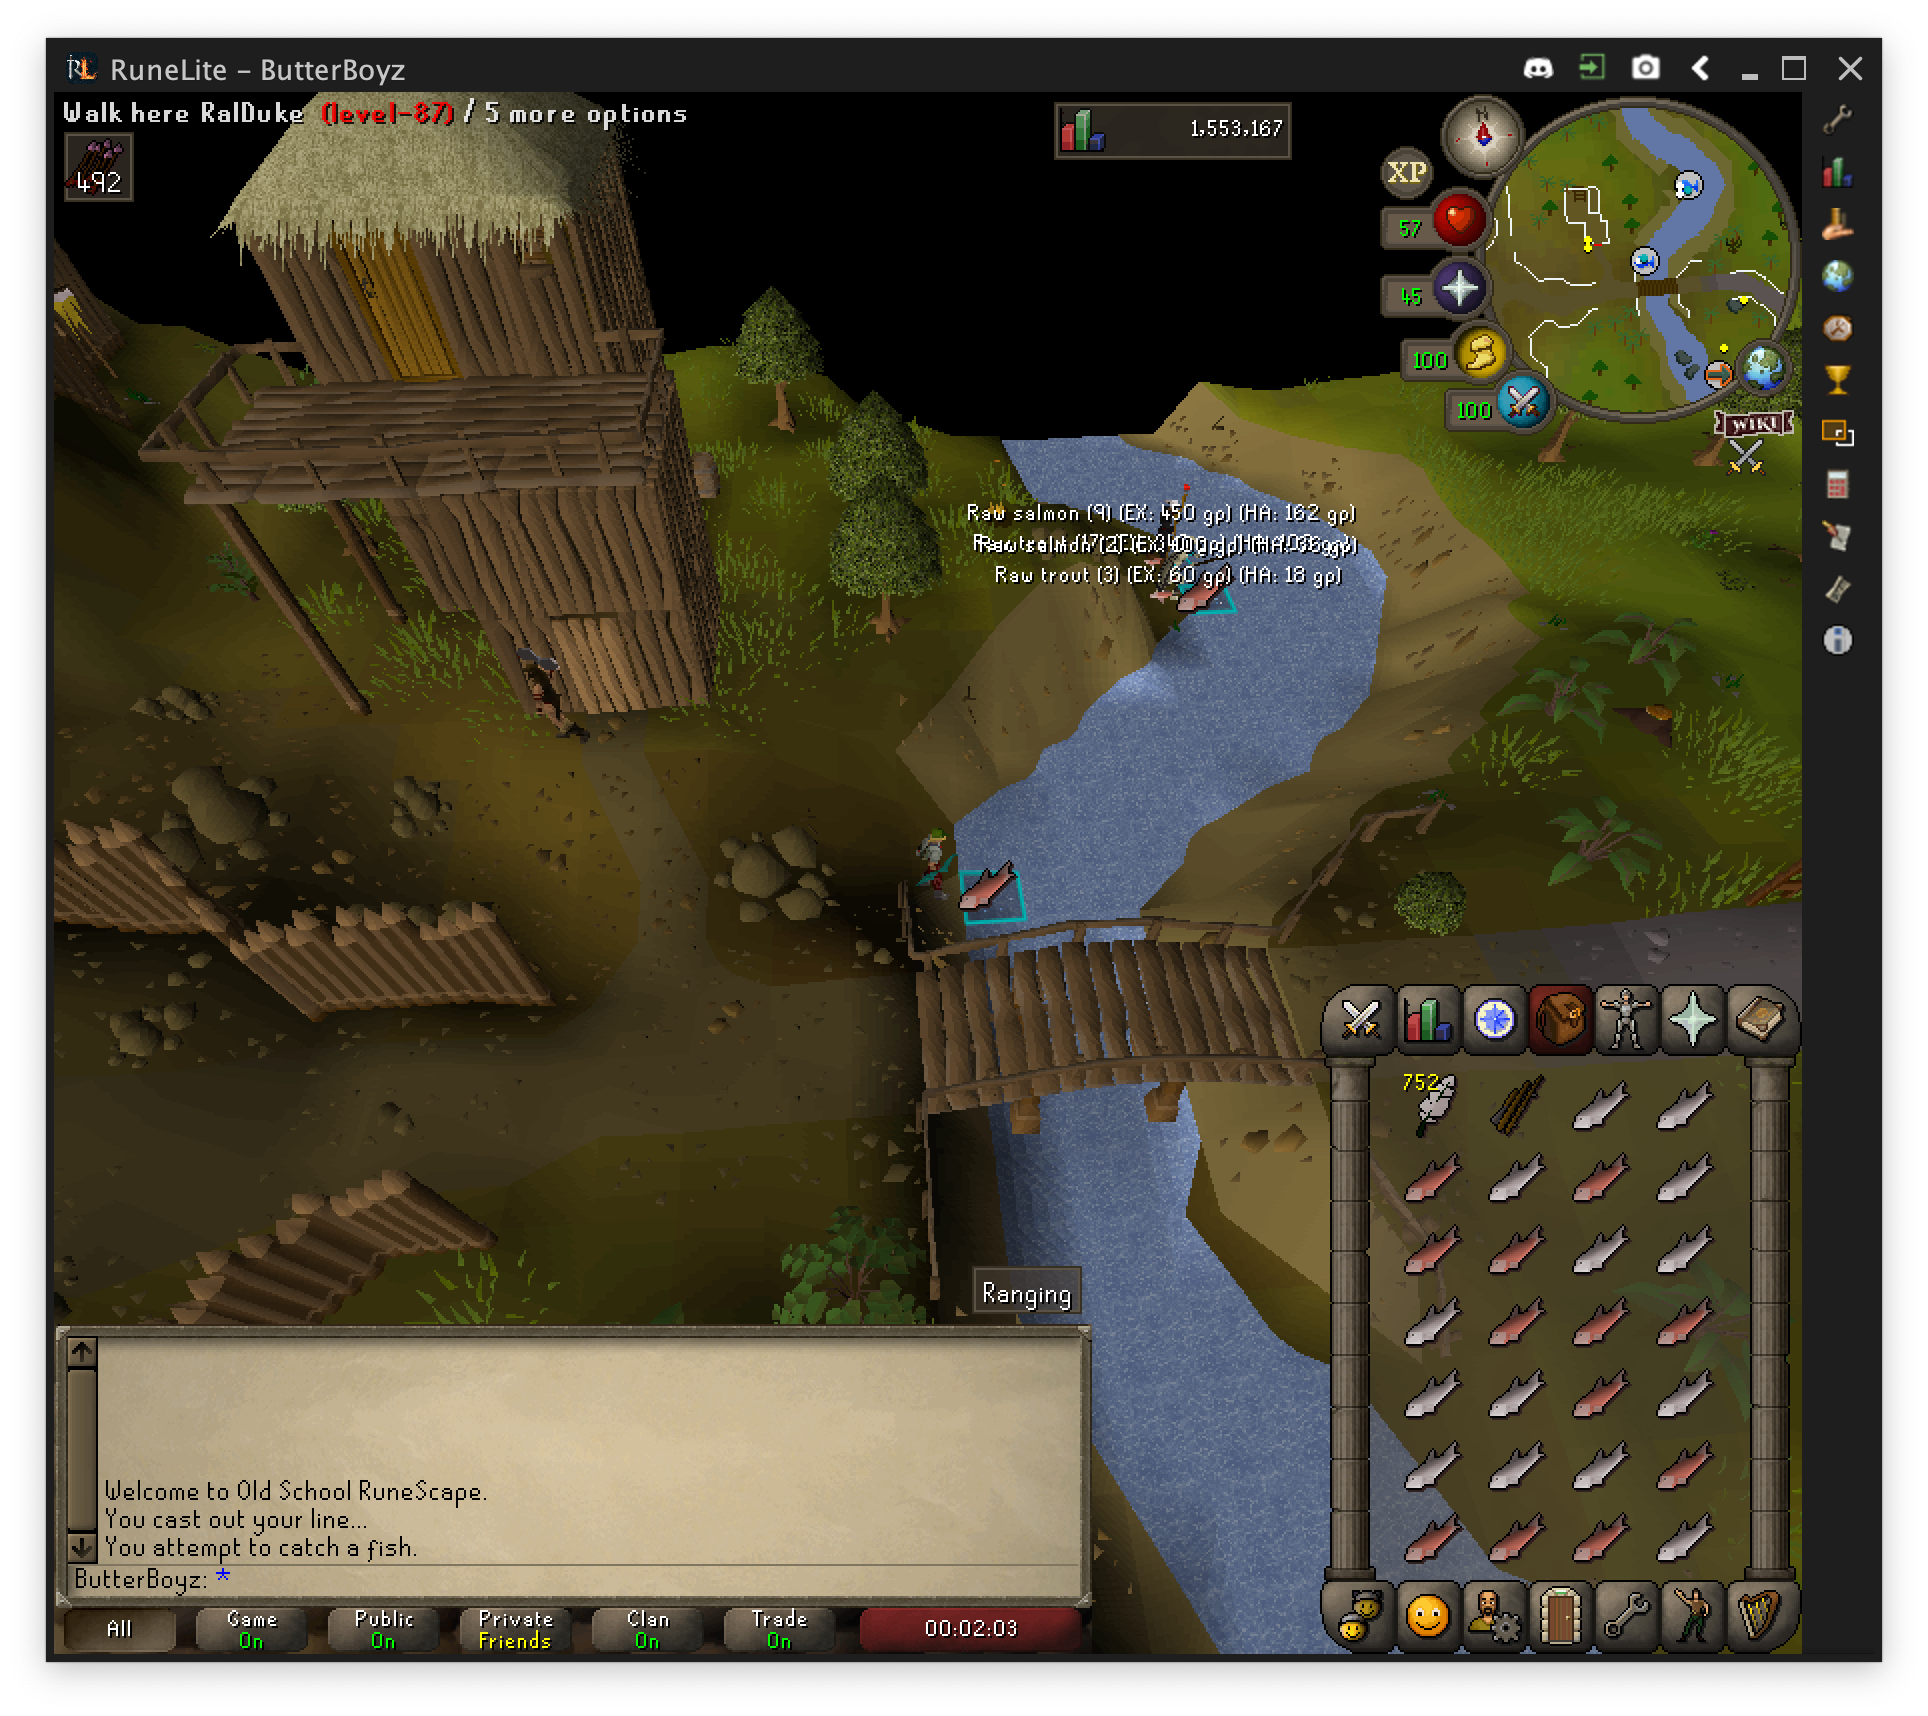fishing spot: (962, 881, 1017, 918), (1183, 586, 1232, 608)
